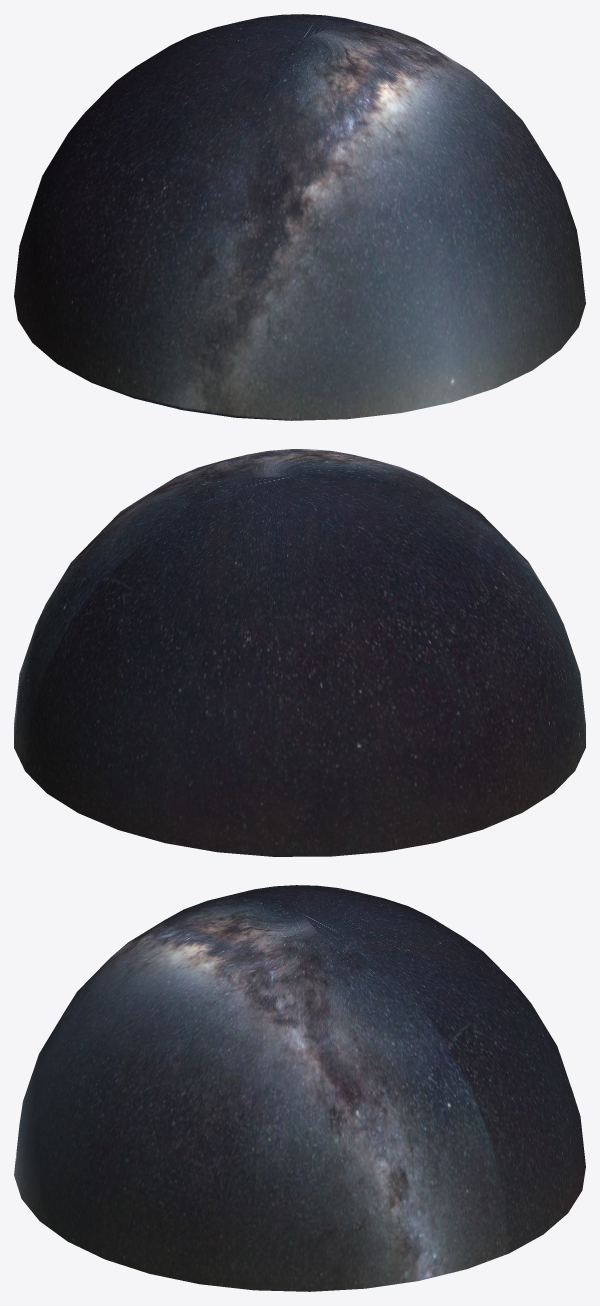
Rendered from mars_scene_UV.fbx.
The picture shows the model from 3 angles, top to bottom: view 1: azimuth 30°, elevation 25°; view 2: azimuth 150°, elevation 25°; view 3: azimuth 270°, elevation 25°; orthographic projection.
Visible parts, largest first — view 1: Sphere; view 2: Sphere; view 3: Sphere.
Part boxes in pixels (x1=…): Sphere: x1=14, y1=14, x2=585, y2=420; Sphere: x1=14, y1=449, x2=585, y2=856; Sphere: x1=14, y1=885, x2=585, y2=1291.
Bounding box in the file's own units: 192 × 95.89 × 192.
